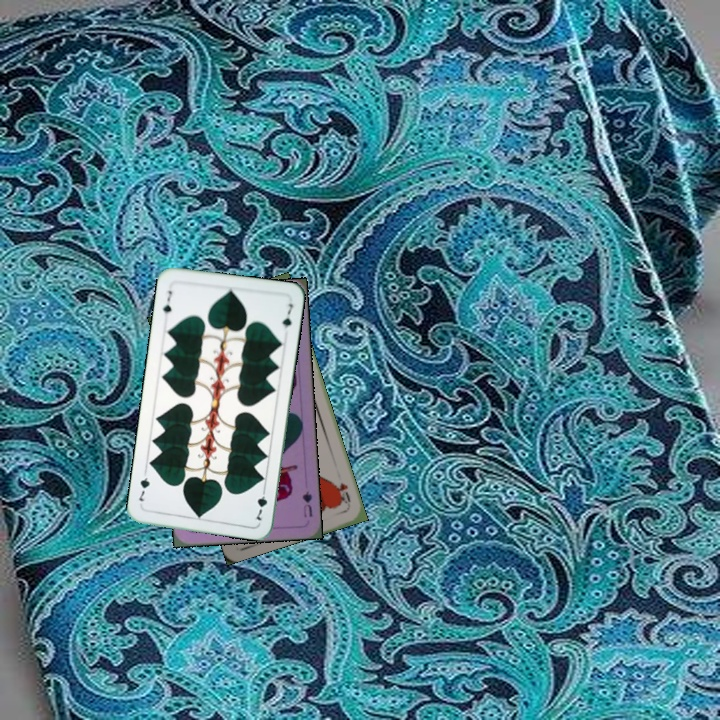G7: (250, 484, 270, 523), (158, 286, 175, 316)
GU: (298, 487, 315, 520)
HO: (332, 478, 353, 506)
